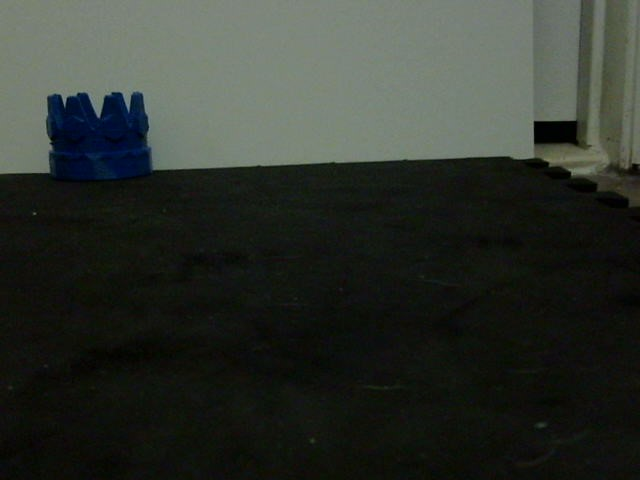crown: (42, 89, 155, 183)
